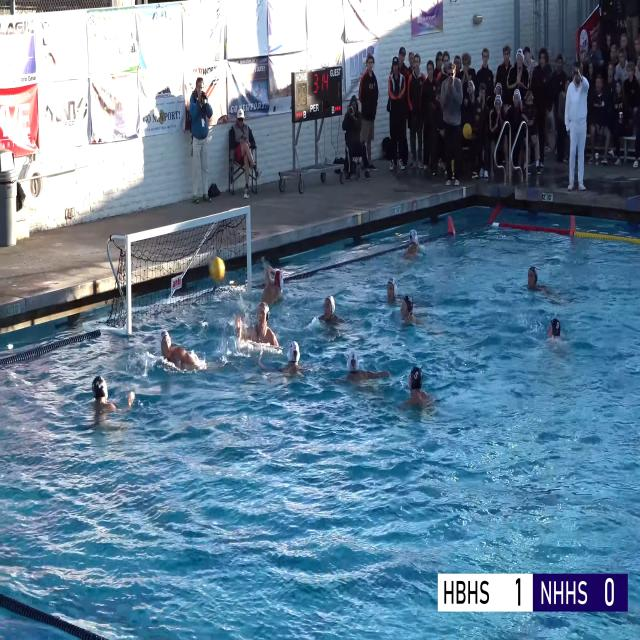ball: (209, 256, 225, 282), (463, 122, 472, 140)
